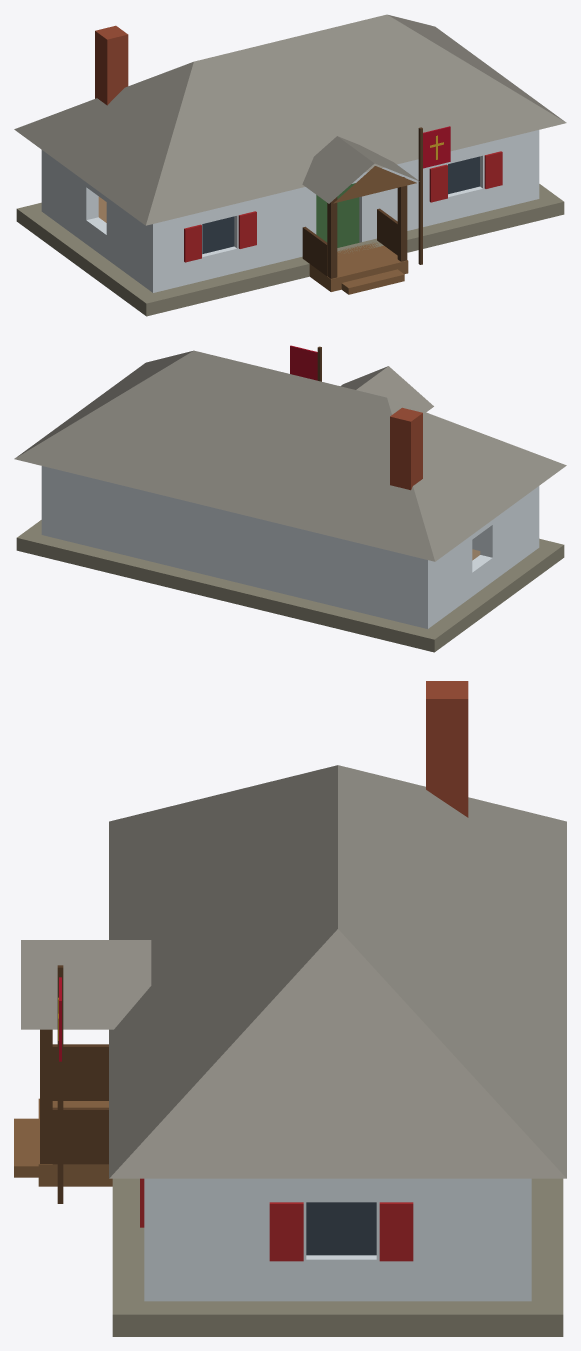
Rendered from otaman.glb.
3 renders of one model, top to bottom at view 1: azimuth 30°, elevation 25°; view 2: azimuth 150°, elevation 25°; view 3: azimuth 270°, elevation 25°, orthographic. The views are drawn at different scales.
Parts seen in each view (by area): view 1: roof_south, wall_south (×4), roof_west, pryzba_s, wall_west (×2), pryzba_w, porch_roof_w, shutter (×4), porch_deck, chimney, pane (×2), wall_south_sill (×2) (+15 smaller); view 2: roof_north, wall_north, roof_west, pryzba_n, wall_west (×2), pryzba_w, chimney, roof_east, porch_roof_w, wall_east, korohva_cloth, wall_west_sill; view 3: roof_north, roof_east, roof_south, wall_east (×2), pryzba_e, porch_roof_e, chimney, pryzba_n, pryzba_s, shutter (×2), pane, wall_east_sill (+9 smaller).
Boxes of the visible parts, left/top/right/bottom form: roof_south: left=146, top=14, right=566, bottom=225; wall_south (×4): left=146, top=130, right=539, bottom=292; roof_west: left=14, top=61, right=193, bottom=225; pryzba_s: left=137, top=195, right=564, bottom=316; wall_west (×2): left=42, top=155, right=165, bottom=292; pryzba_w: left=26, top=211, right=152, bottom=309; porch_roof_w: left=302, top=136, right=374, bottom=203; shutter (×4): left=184, top=151, right=502, bottom=262; porch_deck: left=309, top=242, right=408, bottom=291; chimney: left=95, top=25, right=128, bottom=105; pane (×2): left=202, top=156, right=479, bottom=253; wall_south_sill (×2): left=202, top=186, right=482, bottom=280; roof_north: left=14, top=350, right=434, bottom=561; wall_north: left=43, top=469, right=434, bottom=628; roof_west: left=387, top=398, right=566, bottom=561; pryzba_n: left=16, top=531, right=443, bottom=652; wall_west (×2): left=415, top=486, right=539, bottom=628; pryzba_w: left=428, top=547, right=554, bottom=645; chimney: left=390, top=407, right=422, bottom=490; roof_east: left=16, top=350, right=193, bottom=457; porch_roof_w: left=356, top=366, right=433, bottom=412; wall_east: left=41, top=466, right=53, bottom=537; korohva_cloth: left=290, top=345, right=317, bottom=380; wall_west_sill: left=472, top=555, right=492, bottom=596; roof_north: left=338, top=765, right=566, bottom=1178; roof_east: left=109, top=929, right=566, bottom=1178; roof_south: left=109, top=765, right=337, bottom=1178; wall_east (×2): left=144, top=1178, right=531, bottom=1301; pryzba_e: left=144, top=1301, right=531, bottom=1336; porch_roof_e: left=21, top=940, right=151, bottom=1029; chimney: left=426, top=681, right=468, bottom=817; pryzba_n: left=531, top=1178, right=563, bottom=1336; pryzba_s: left=112, top=1178, right=144, bottom=1336; shutter (×2): left=269, top=1202, right=413, bottom=1261; pane: left=306, top=1202, right=376, bottom=1255; wall_east_sill: left=306, top=1255, right=376, bottom=1301.
Bounding box in the file's own units: 12 × 5.47 × 7.85.
